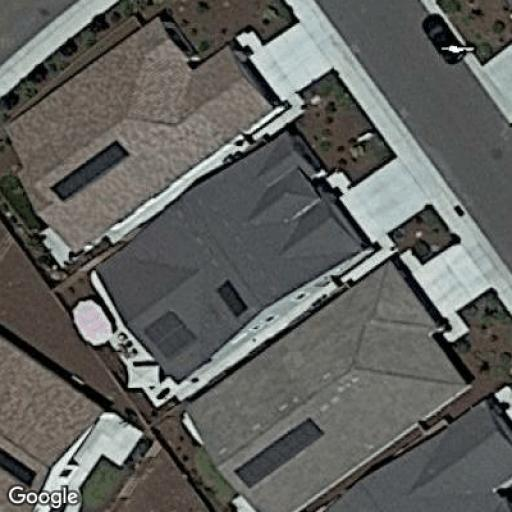solar-panel: (232, 416, 326, 490), (48, 135, 134, 204), (142, 310, 196, 358), (211, 278, 252, 321), (1, 447, 39, 484)
